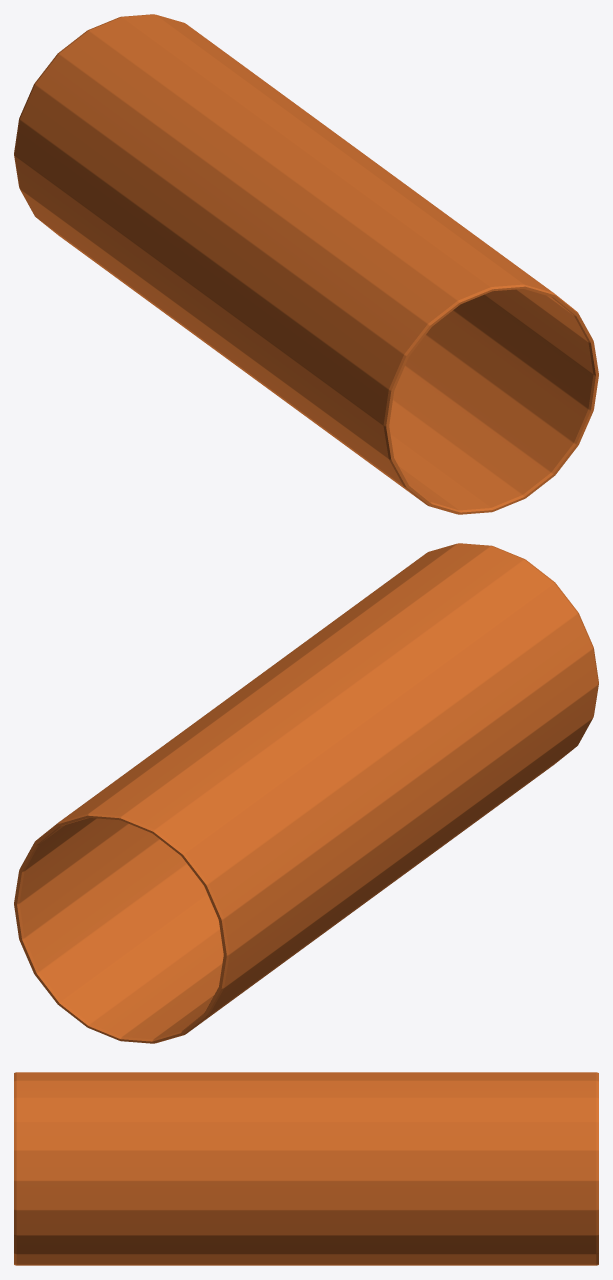
3 renders of one model, top to bottom at view 1: azimuth 30°, elevation 25°; view 2: azimuth 150°, elevation 25°; view 3: azimuth 270°, elevation 25°, orthographic. The views are drawn at different scales.
Visible parts, largest first — view 1: pCylinder1; view 2: pCylinder1; view 3: pCylinder1.
Part boxes in pixels (x1,y1,x2,y2): pCylinder1: [14, 14, 598, 514]; pCylinder1: [14, 543, 598, 1043]; pCylinder1: [14, 1072, 598, 1265].
Size of the model in its own units: 79.92 by 79.92 by 240.
